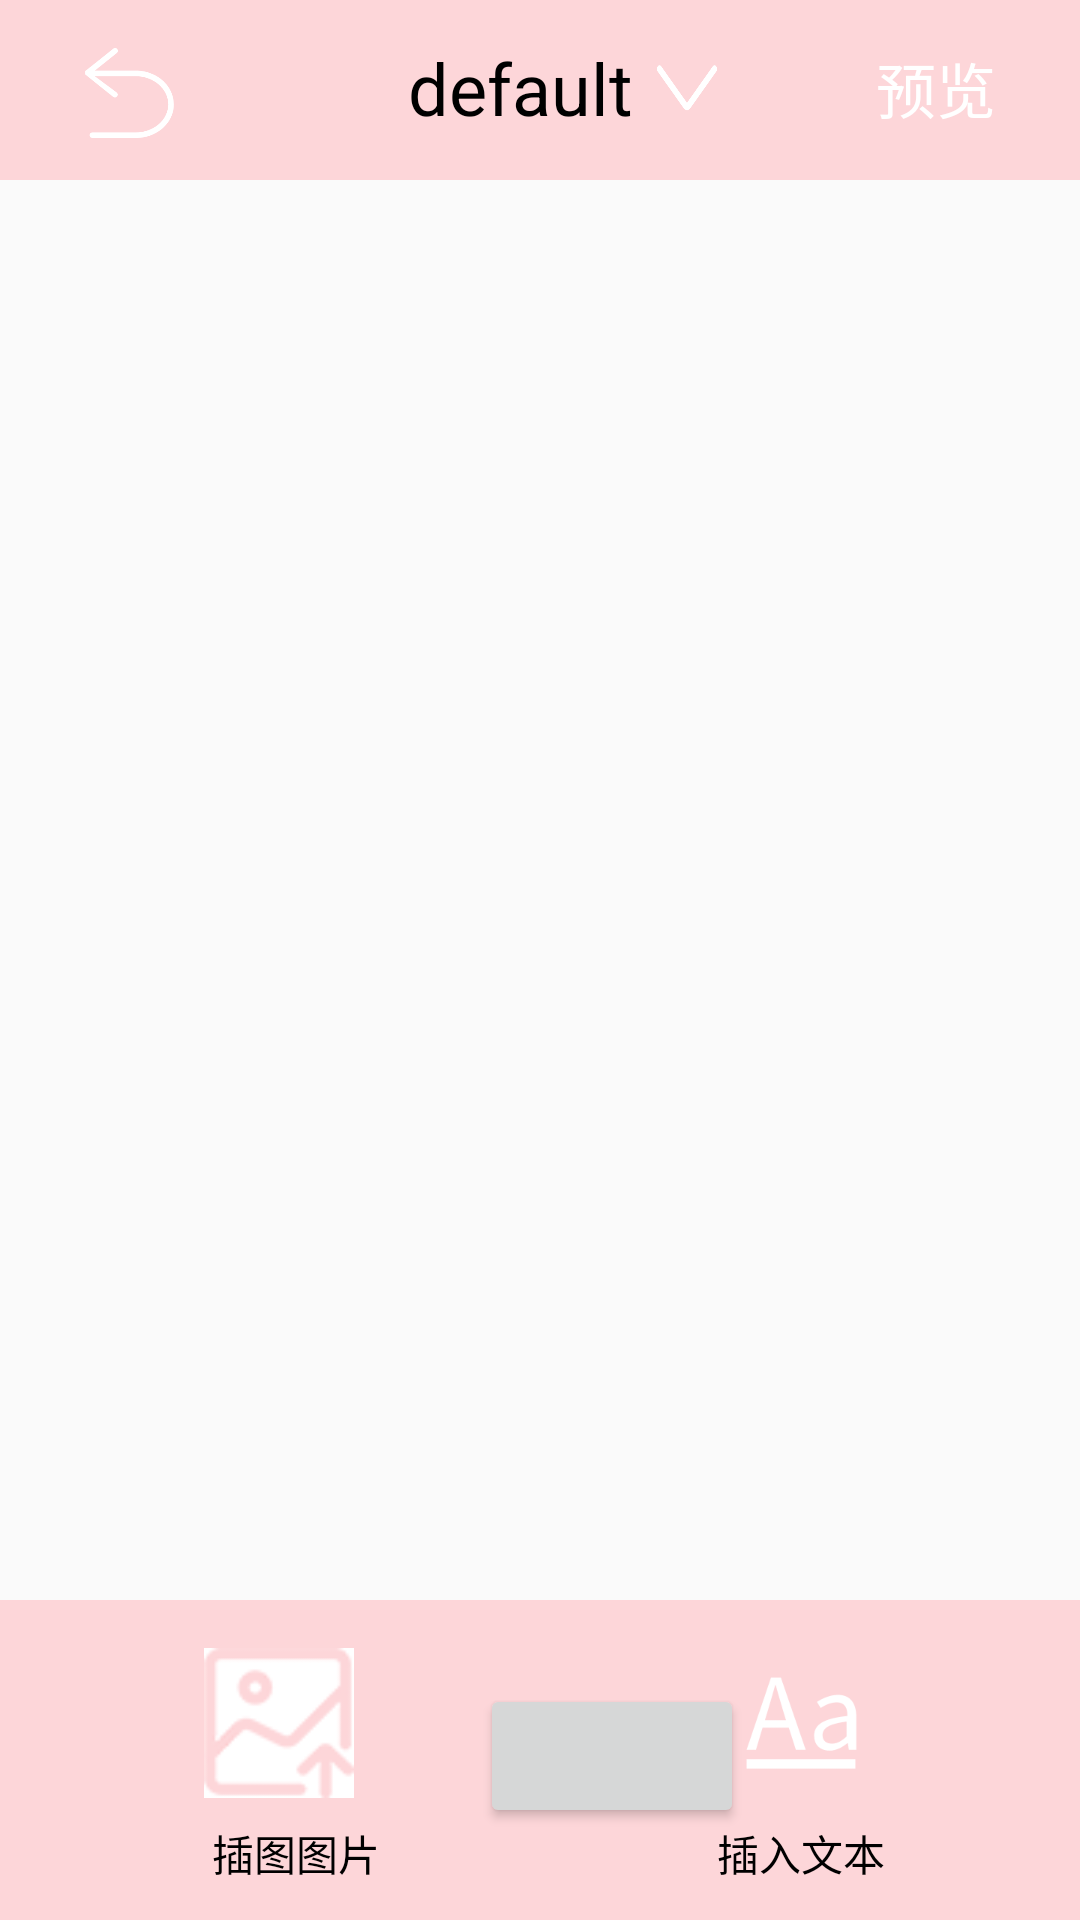

Point at icon controls on the screen. Image size 1080px×1920px, points as (x=x, y=y).
back: (x=129, y=93)
text add: (x=801, y=1723)
